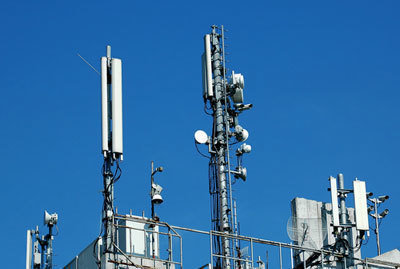a: (111, 58, 123, 153), (353, 180, 370, 230), (100, 56, 107, 151), (204, 34, 213, 96), (328, 176, 339, 225)
b: (194, 129, 206, 144)
